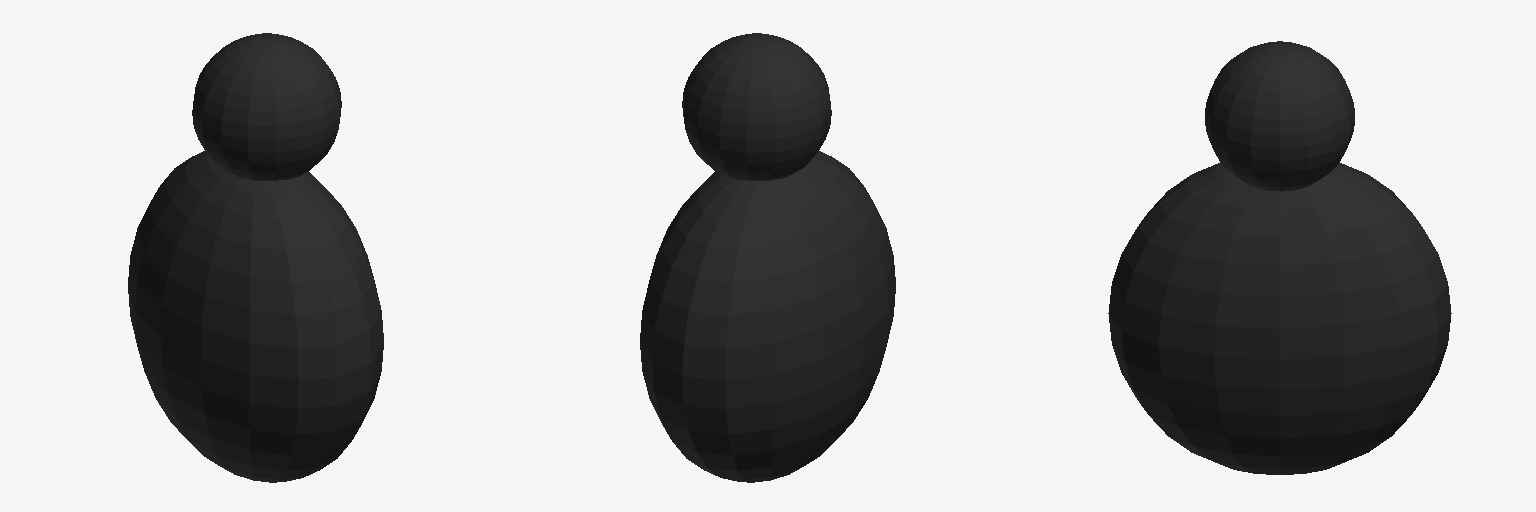
The model's file is Perso.obj.
The picture shows the model from 3 angles: view 1: azimuth 30°, elevation 25°; view 2: azimuth 150°, elevation 25°; view 3: azimuth 270°, elevation 25°; orthographic projection.
Visible parts, largest first — view 1: Perso_Sphere.003; view 2: Perso_Sphere.003; view 3: Perso_Sphere.003.
Part boxes in pixels (bbox=[...]): Perso_Sphere.003: bbox=[128, 33, 383, 482]; Perso_Sphere.003: bbox=[640, 33, 895, 482]; Perso_Sphere.003: bbox=[1108, 41, 1451, 474].
Size of the model in its own units: 0.7756 by 1.65 by 1.21.